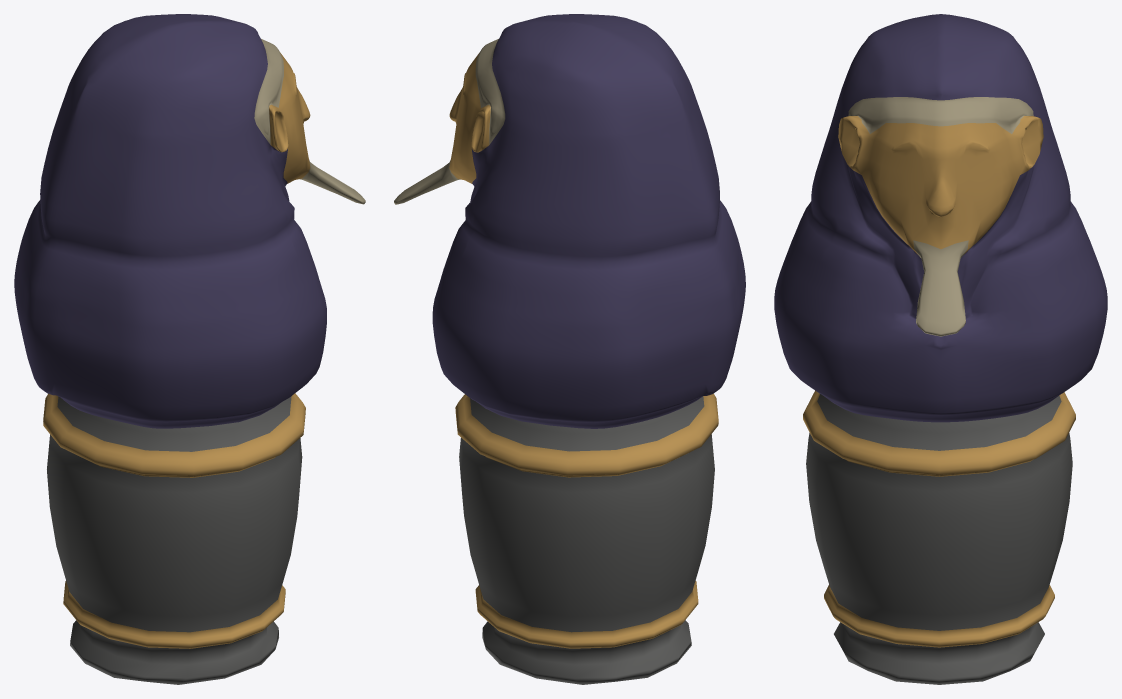
Rendered from urne_human_uv.fbx.
3 renders of one model, left to right at view 1: azimuth 30°, elevation 25°; view 2: azimuth 150°, elevation 25°; view 3: azimuth 270°, elevation 25°, orthographic.
Visible parts, largest first — view 1: pasted__man, pasted__base; view 2: pasted__man, pasted__base; view 3: pasted__man, pasted__base.
Part boxes in pixels (x1,y1,x2,y2): pasted__man: (14,14,365,428); pasted__base: (43,393,305,684); pasted__man: (394,14,745,428); pasted__base: (455,393,718,684); pasted__man: (774,14,1107,422); pasted__base: (803,390,1075,684).
Bounding box in the file's own units: 1.25 × 2.23 × 1.09.
